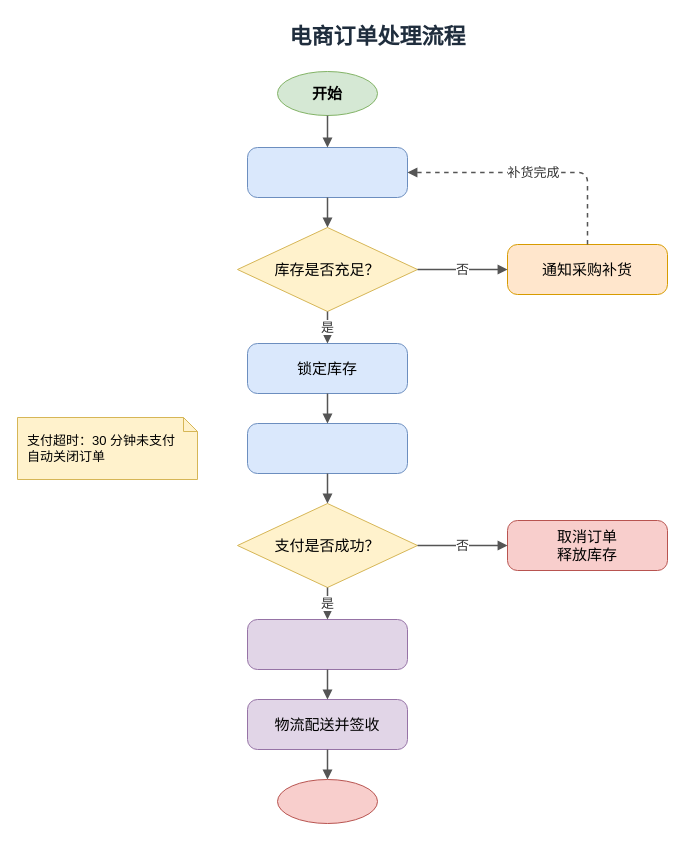
The diagram is 685 pixels wide and 841 high, and some of its shapes have lost their labels. The centre of each missing label's shape, as x and y in pixels:
仓库拣货打包: (x=327, y=644)
在线支付: (x=327, y=448)
用户提交订单: (x=327, y=172)
结束: (x=327, y=801)
